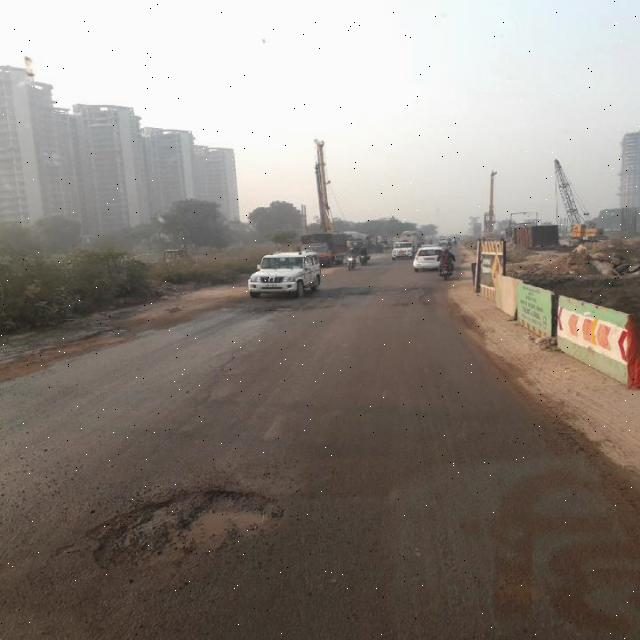D00: (188, 346, 248, 418)
D40: (81, 483, 298, 562)
